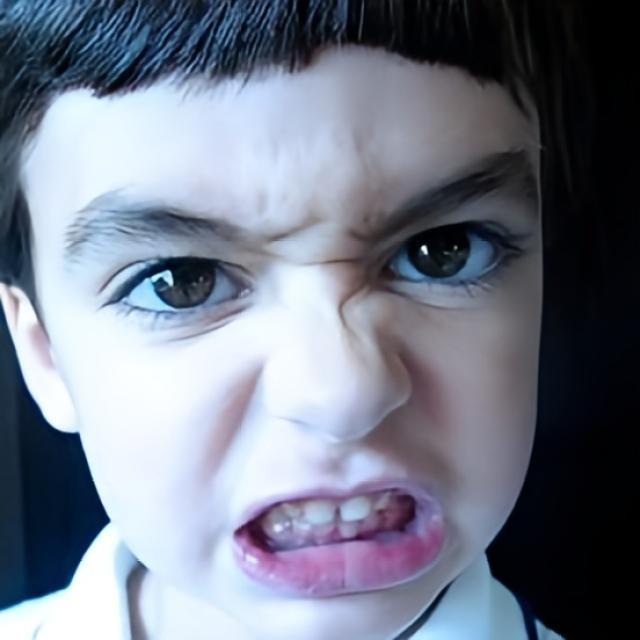anger: (56, 80, 548, 640)
